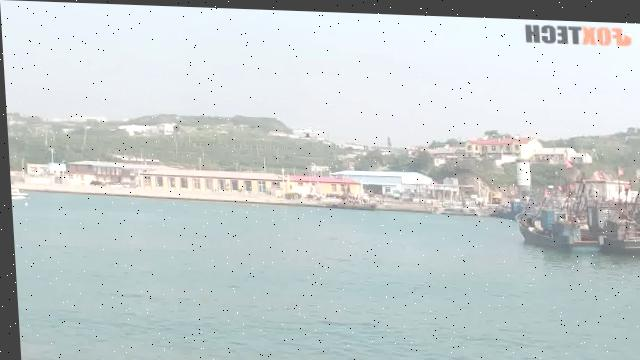drone: (291, 124, 322, 137)
